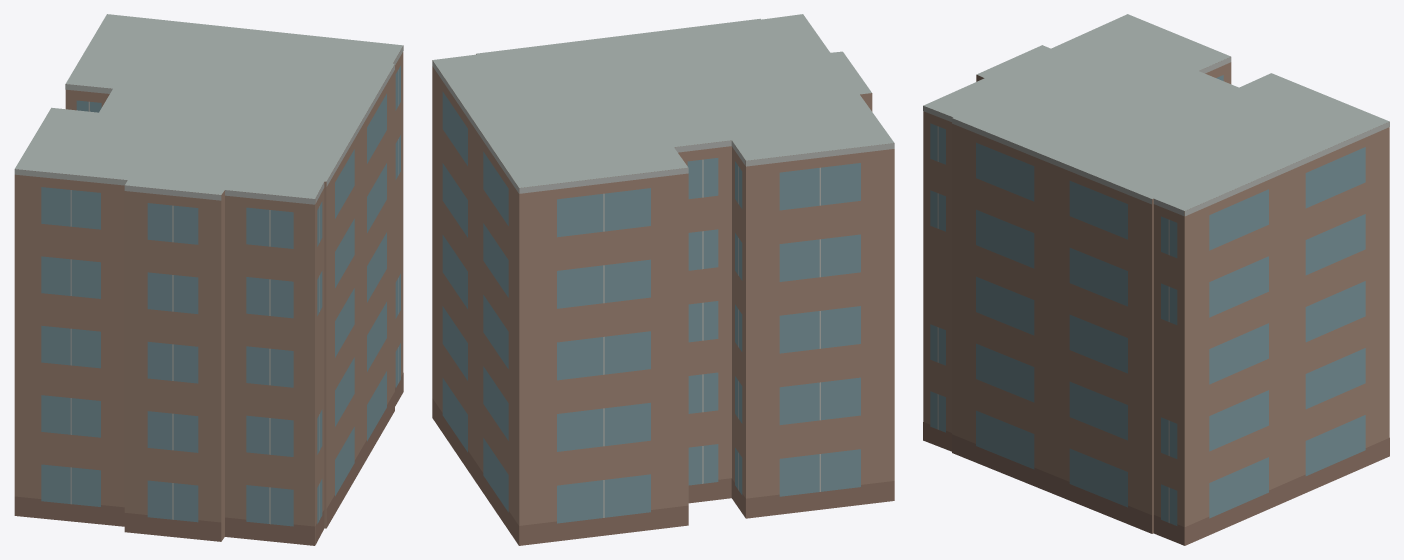
Rendered from survey-upis-32986649.glb.
The picture shows the model from 3 angles, left to right: view 1: azimuth 30°, elevation 25°; view 2: azimuth 150°, elevation 25°; view 3: azimuth 270°, elevation 25°; orthographic projection. The views are drawn at different scales.
Visible parts, largest first — view 1: survey-upis-32986649.tmp; view 2: survey-upis-32986649.tmp; view 3: survey-upis-32986649.tmp.
Boxes of the visible parts, box(x1,y1,x2,y2) form: survey-upis-32986649.tmp: box(14, 14, 403, 545); survey-upis-32986649.tmp: box(432, 14, 894, 545); survey-upis-32986649.tmp: box(923, 14, 1389, 545).
Bounding box in the file's own units: 18.9 × 14.97 × 18.91.
